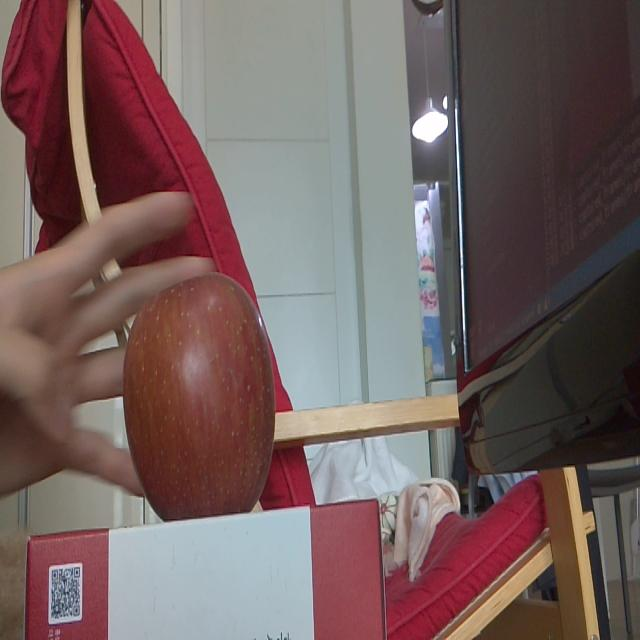apple: (119, 268, 279, 520)
